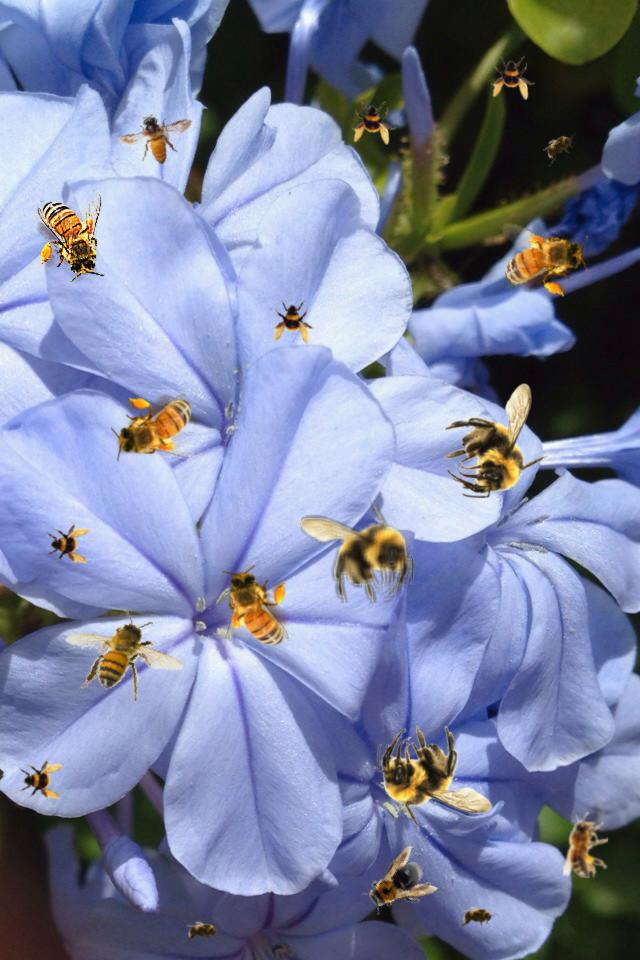Bee: (61, 599, 190, 715), (299, 498, 414, 605), (443, 383, 550, 498), (377, 725, 492, 832), (489, 217, 595, 304), (354, 845, 440, 927), (37, 189, 105, 282), (221, 565, 289, 658), (111, 394, 204, 462), (115, 108, 193, 169), (563, 812, 608, 878), (491, 56, 535, 100), (46, 521, 90, 565), (272, 300, 316, 344), (19, 757, 63, 801), (352, 101, 396, 145), (537, 126, 583, 168), (183, 921, 223, 943), (458, 906, 498, 928)
